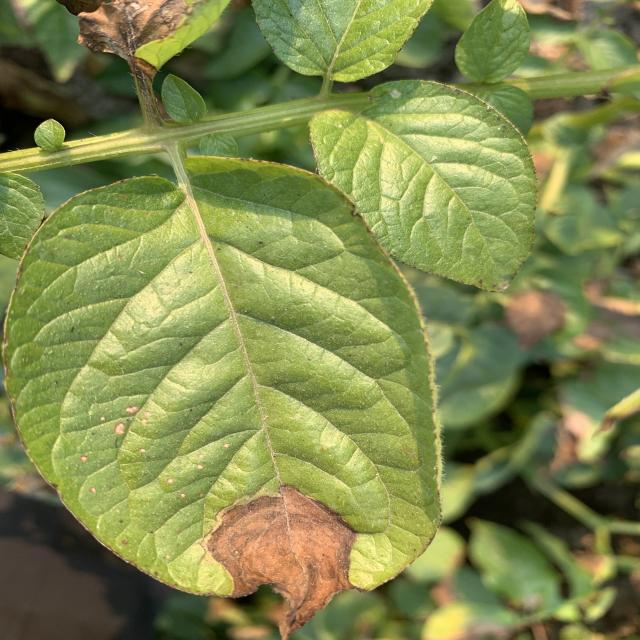lateblight: (207, 485, 357, 640), (60, 0, 192, 126)
